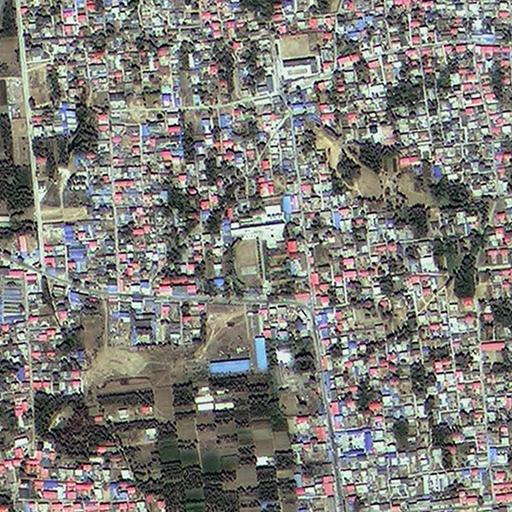school: (233, 218, 290, 297)
